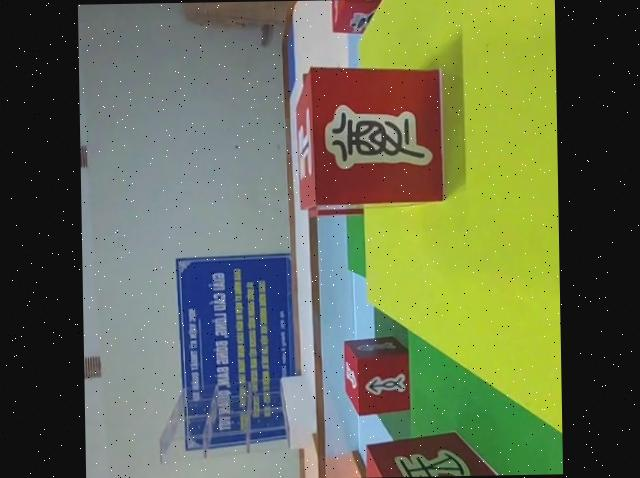R1: (329, 0, 396, 33)
R2 Fake: (293, 64, 446, 208)
R2 Real: (362, 432, 520, 478), (341, 339, 411, 415)
